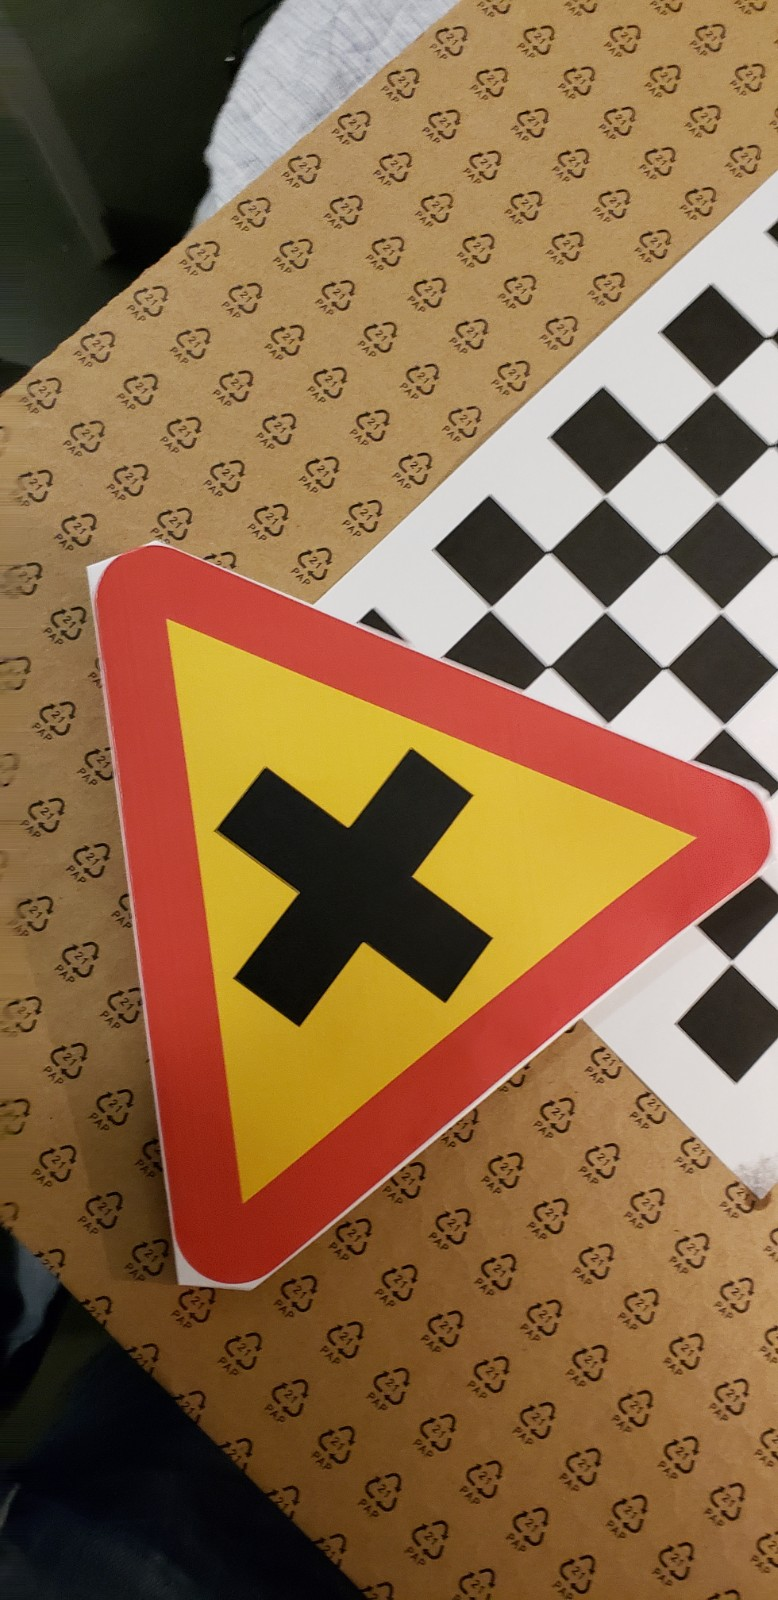junction: (41, 520, 772, 1304)
